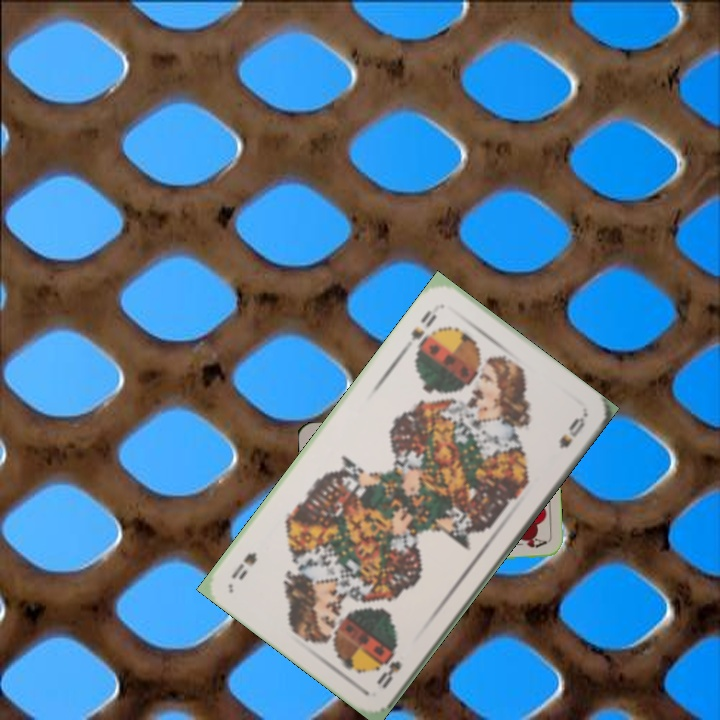SO: (372, 647, 404, 692), (407, 306, 440, 344)
